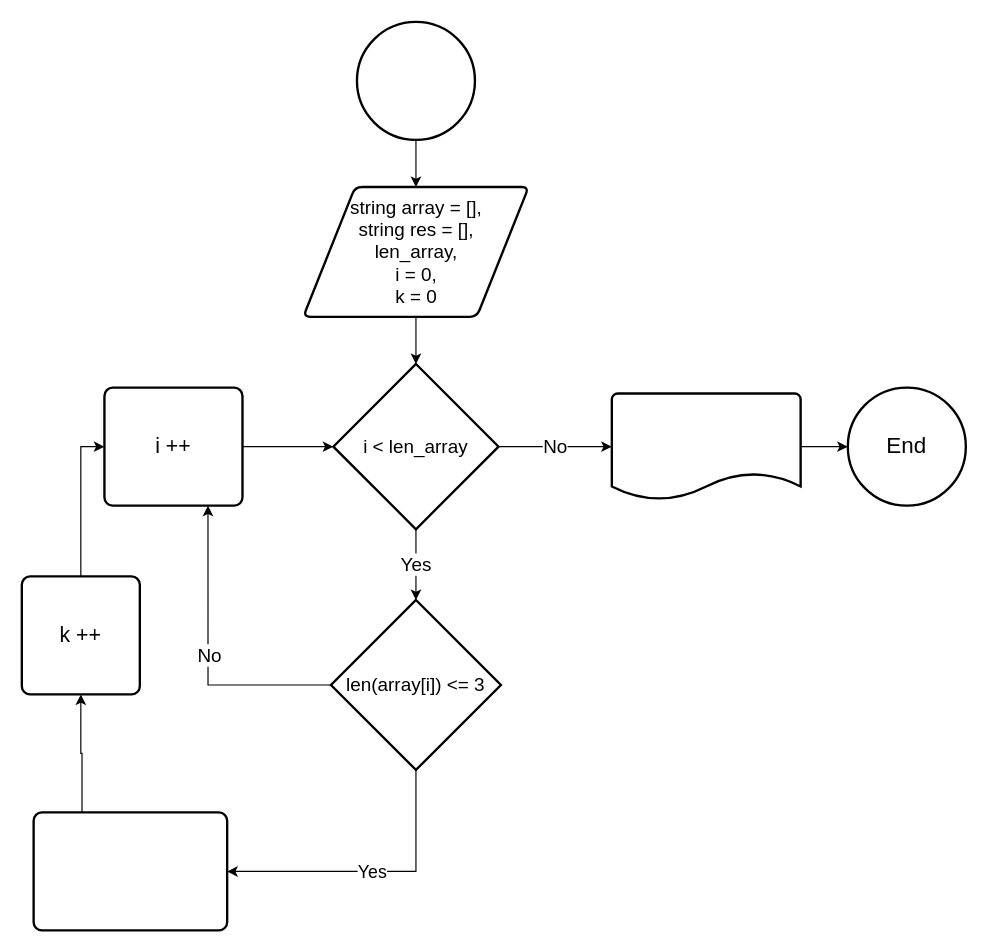
Some shapes in this 986 by 951 pixel diagram are drawn without their labels. Here are the shapes that lost their labels. From the top down, the centre of each, then its label:
At point (415, 80): "Start".
At point (705, 446): "print (res)".
At point (130, 871): "res[k] = array[i]".
